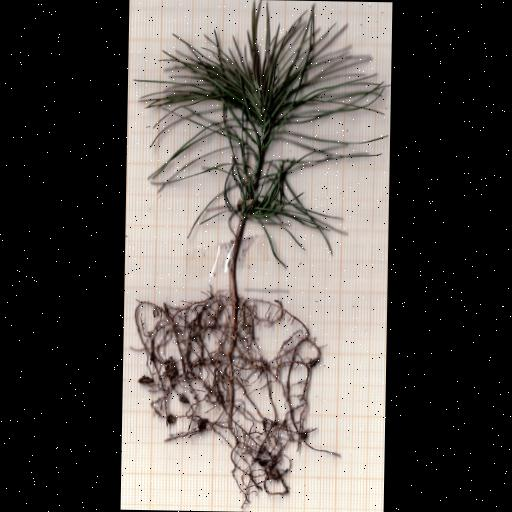flowerCedr: (140, 1, 387, 262)
rootCedr: (134, 292, 321, 510)
stemCedr: (225, 219, 245, 330)
